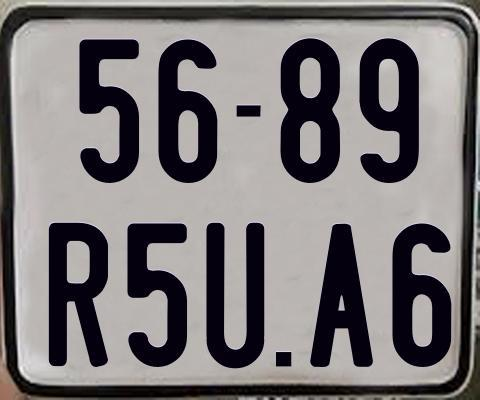5: (124, 221, 188, 367), (77, 39, 138, 186)
6: (155, 36, 221, 181), (391, 220, 452, 370)
8: (277, 36, 342, 184)
9: (356, 35, 422, 185)
A: (310, 221, 379, 370)
R: (49, 221, 114, 371)
U: (204, 223, 268, 375)
